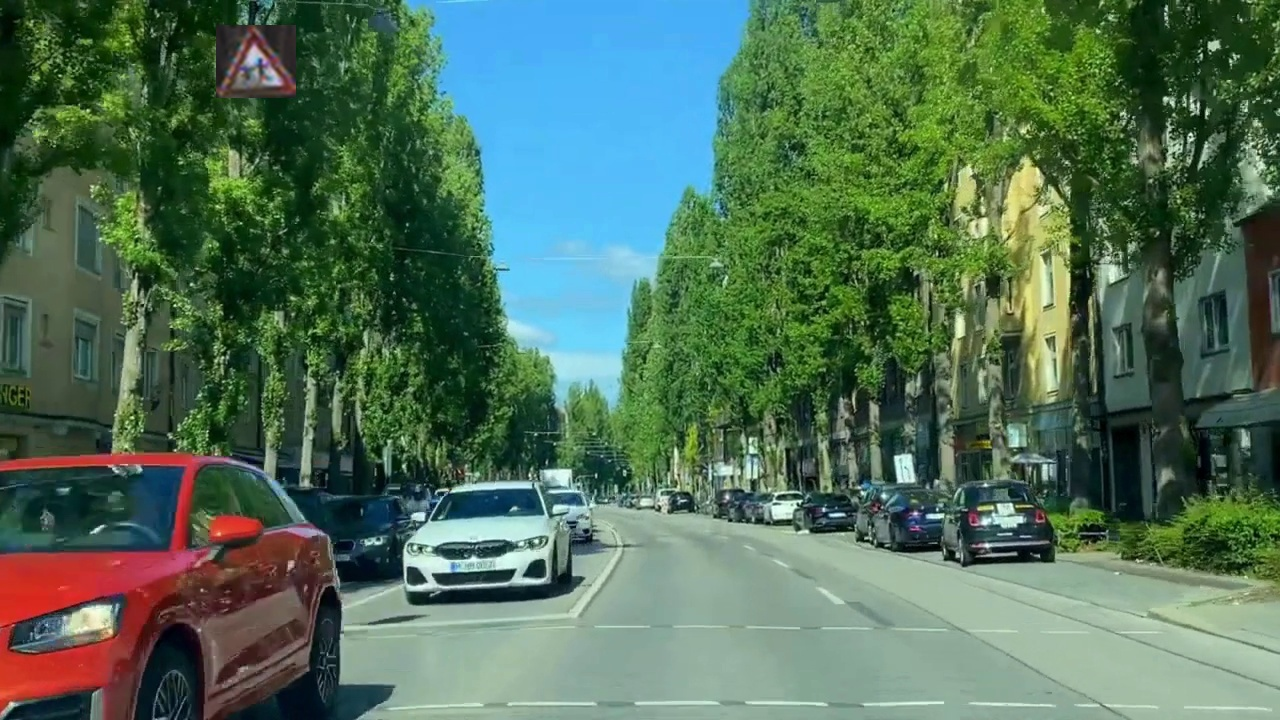Children: (216, 25, 296, 98)
